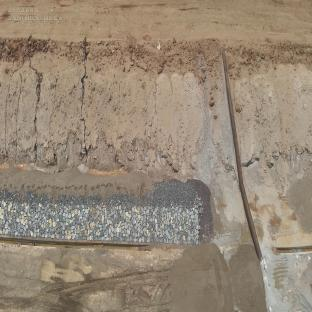rock_toe: (1, 198, 200, 240)
toe_drain: (0, 235, 312, 253)
